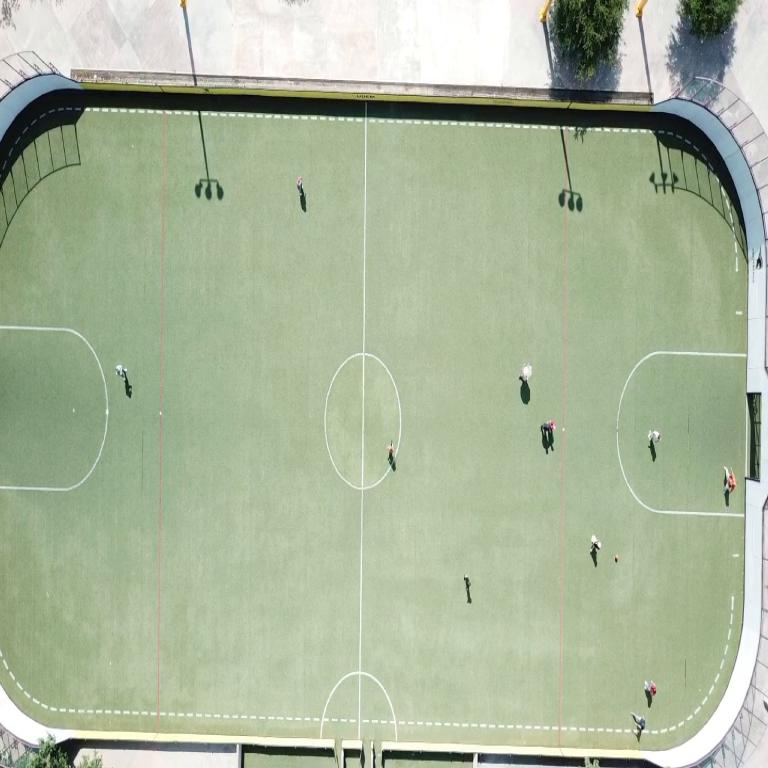AC: (616, 350, 746, 516), (0, 325, 109, 492)
B: (614, 555, 619, 561)
MC: (357, 103, 367, 738)
P: (724, 468, 737, 494), (631, 713, 645, 732), (519, 363, 532, 383), (645, 681, 657, 699), (388, 441, 395, 471), (464, 574, 471, 603), (590, 535, 601, 553), (648, 430, 661, 443), (116, 364, 127, 379), (297, 177, 304, 196), (539, 422, 549, 431), (549, 421, 556, 429)
